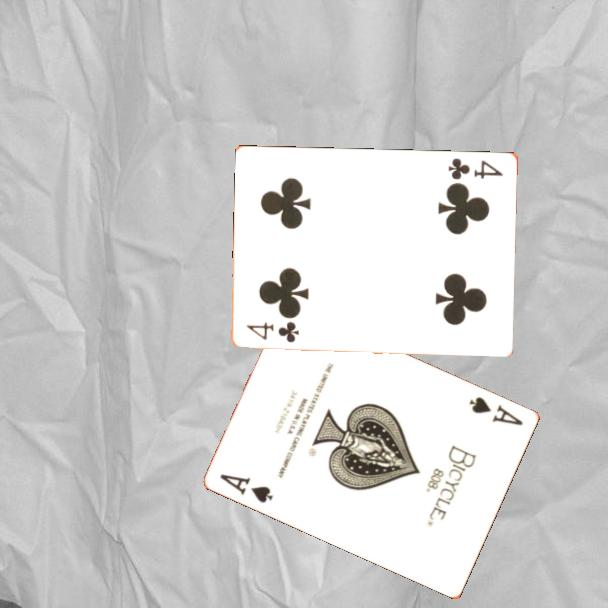c04: (445, 154, 506, 182), (243, 318, 302, 345)
s01: (466, 393, 527, 429), (217, 470, 276, 506)
